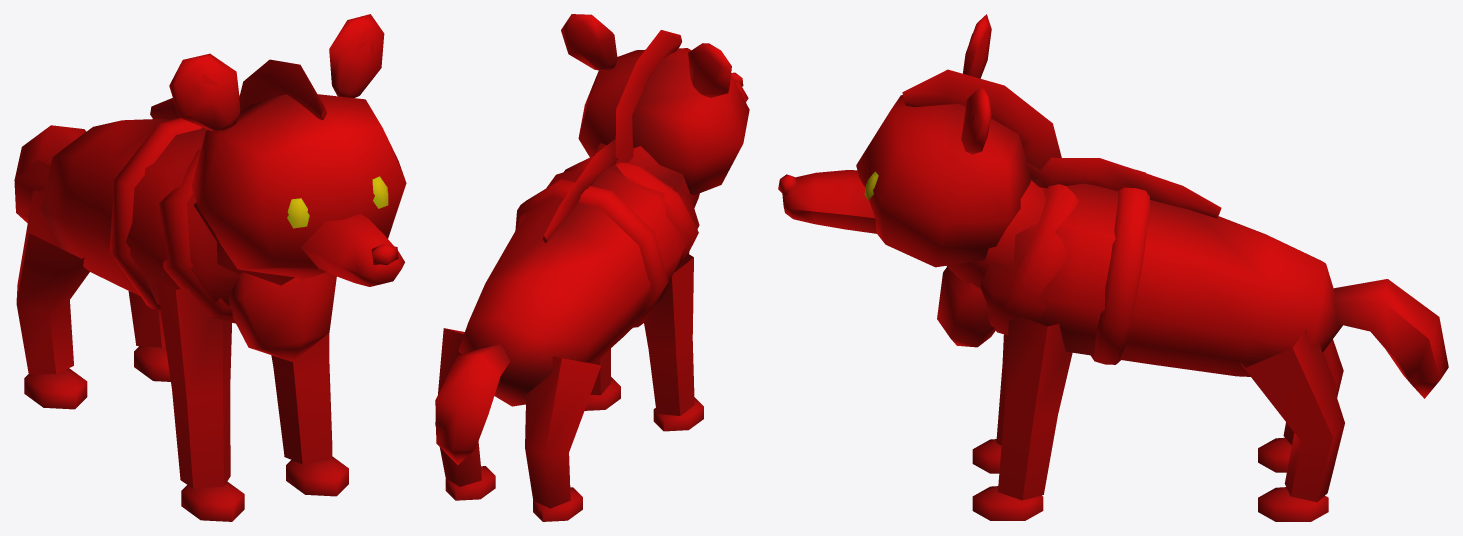
Rendered from Hyena_LOD1.glb.
3 renders of one model, left to right at view 1: azimuth 30°, elevation 25°; view 2: azimuth 150°, elevation 25°; view 3: azimuth 270°, elevation 25°, orthographic. The views are drawn at different scales.
Visible parts, largest first — view 1: Hyena_LOD1; view 2: Hyena_LOD1; view 3: Hyena_LOD1.
Part boxes in pixels (left/top/right/bottom): Hyena_LOD1: left=14, top=14, right=406, bottom=521; Hyena_LOD1: left=435, top=14, right=749, bottom=521; Hyena_LOD1: left=778, top=14, right=1448, bottom=521.
Size of the model in its own units: 0.3355 by 0.7073 by 0.9866.
